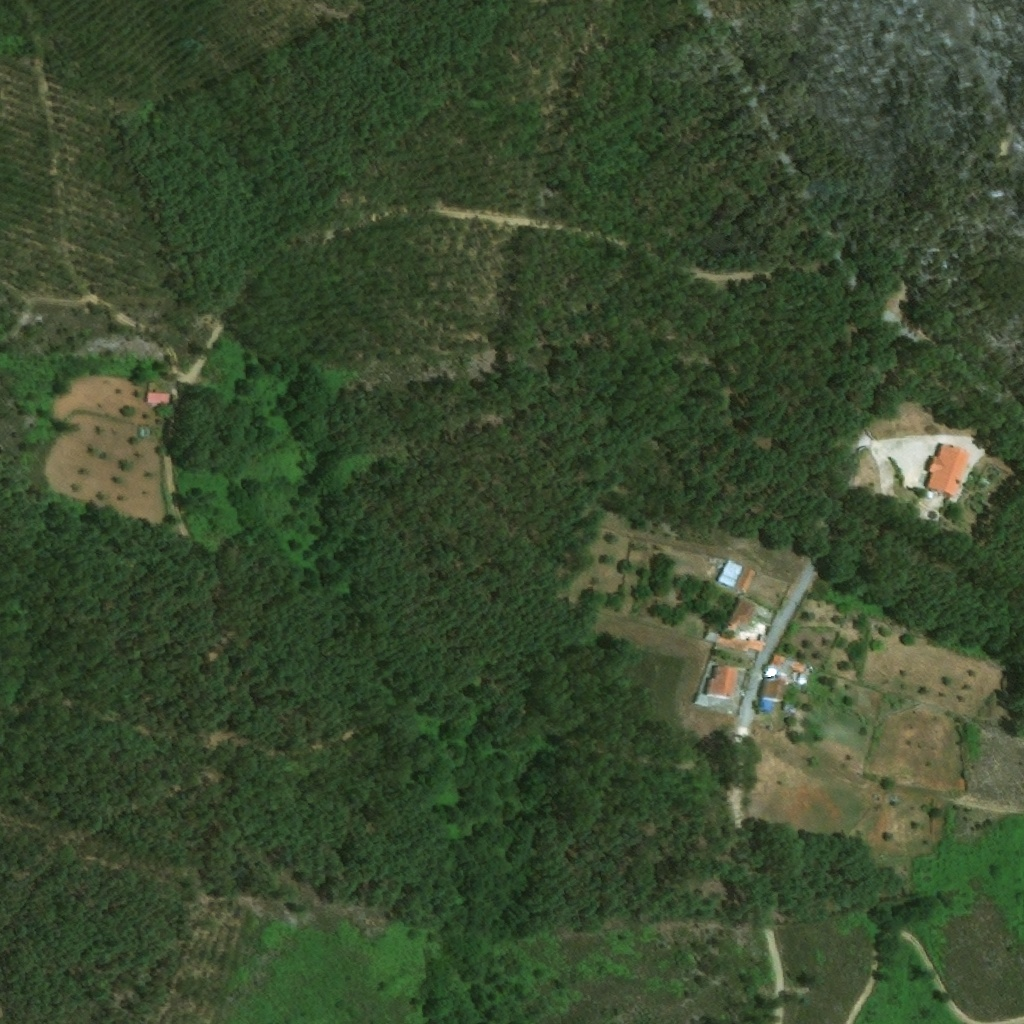0 no-damage: (703, 597, 767, 654), (923, 443, 971, 498), (693, 666, 739, 708), (768, 652, 814, 684), (715, 559, 745, 589), (759, 679, 787, 702), (736, 566, 756, 592), (145, 392, 170, 406), (782, 703, 797, 715)
